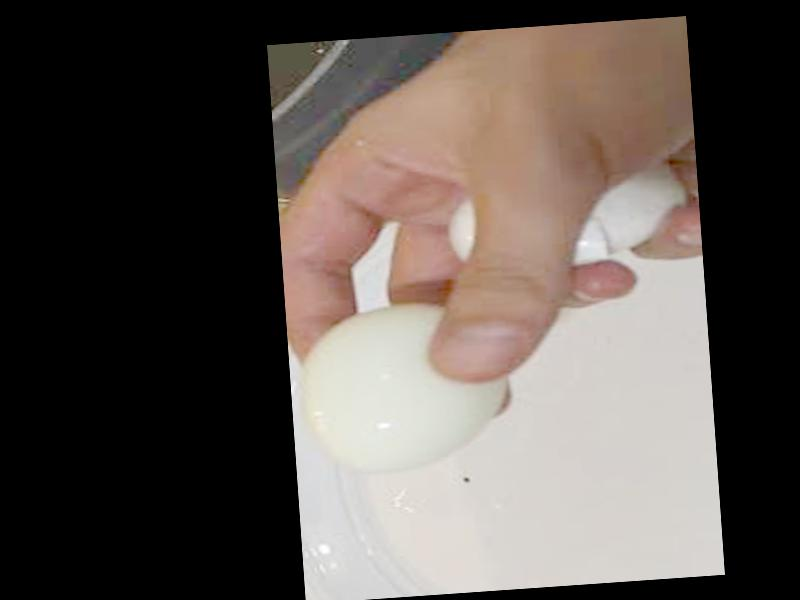Eggs: (288, 297, 514, 474)
